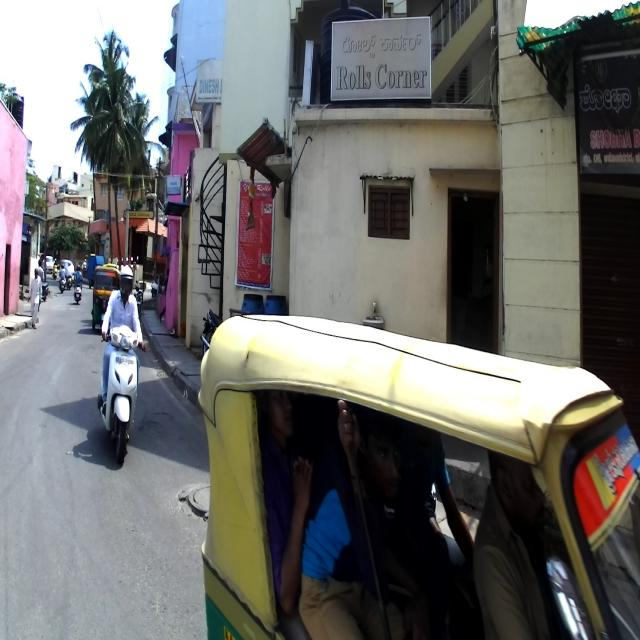autorickshaw: (91, 264, 121, 331)
scooter: (97, 323, 146, 465)
